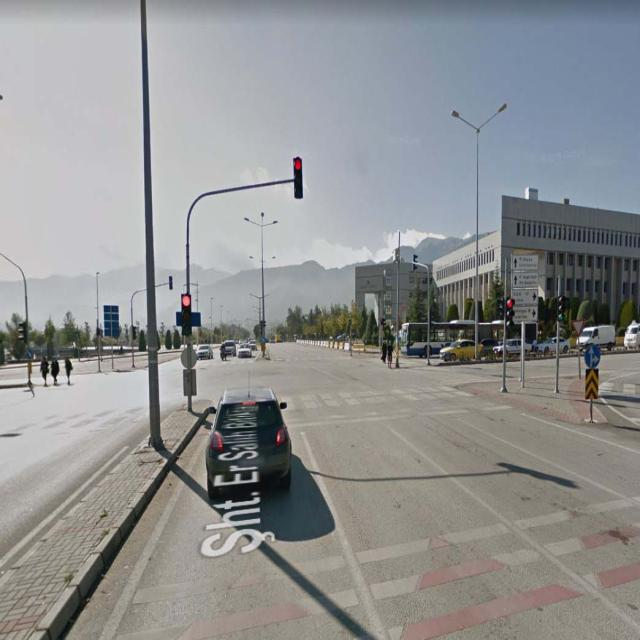ilerisag: (585, 343, 600, 368)
kirmizi: (181, 293, 192, 335), (294, 157, 302, 196), (507, 298, 513, 332)
